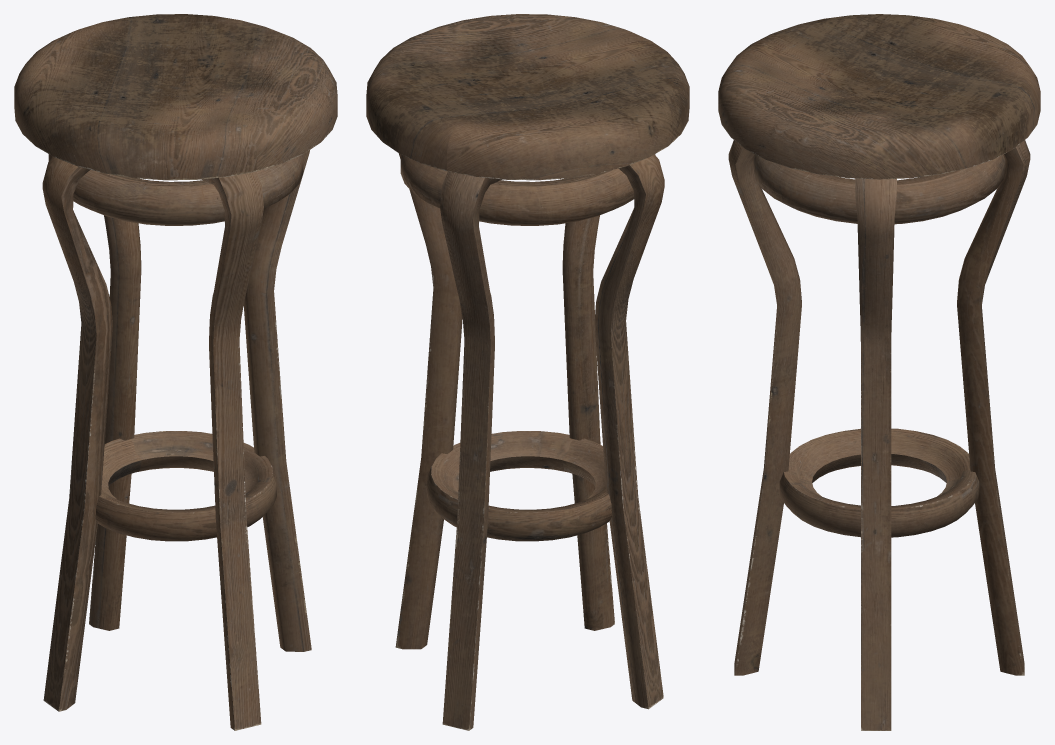
Rendered from SM_Stool.fbx.
3 views of the same model, side by side, from view 1: azimuth 30°, elevation 25°; view 2: azimuth 150°, elevation 25°; view 3: azimuth 270°, elevation 25° (orthographic).
Parts seen in each view (by area): view 1: SM_Stool_LOD0; view 2: SM_Stool_LOD0; view 3: SM_Stool_LOD0.
Part boxes in pixels (x1=…): SM_Stool_LOD0: x1=14, y1=14, x2=337, y2=730; SM_Stool_LOD0: x1=366, y1=14, x2=689, y2=730; SM_Stool_LOD0: x1=718, y1=14, x2=1040, y2=730.
Bounding box in the file's own units: 38.83 × 38.83 × 79.23.
